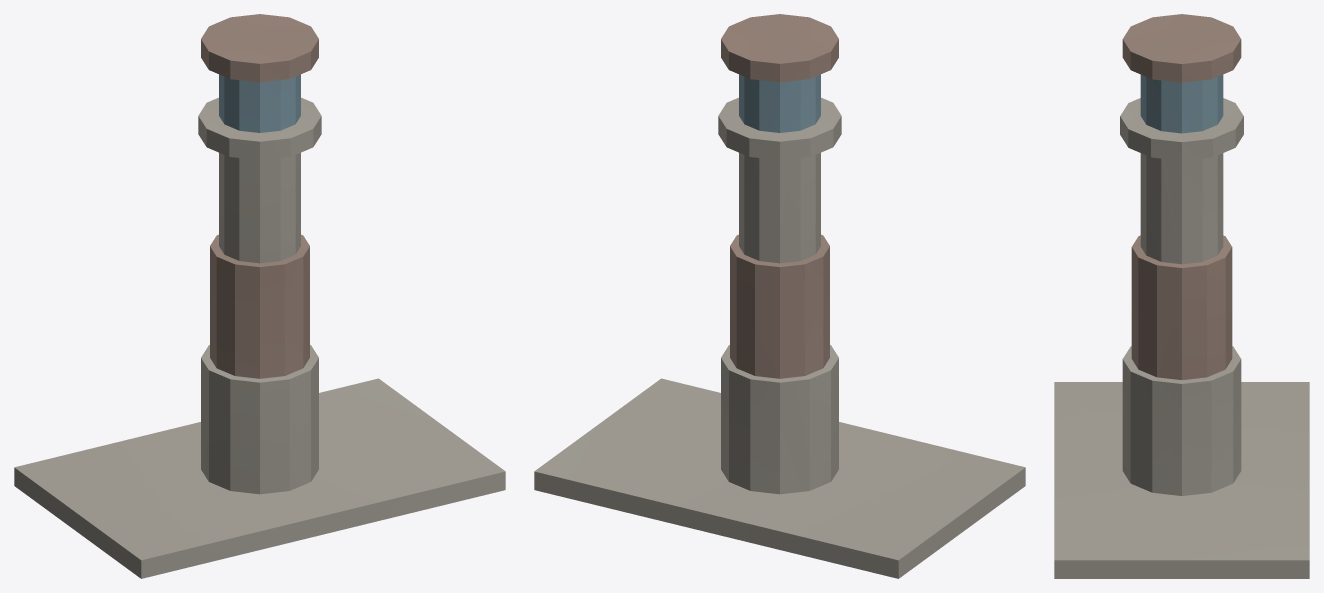
File: lighthouse-03.glb
The picture shows the model from 3 angles, left to right: view 1: azimuth 30°, elevation 25°; view 2: azimuth 150°, elevation 25°; view 3: azimuth 270°, elevation 25°; orthographic projection.
Parts seen in each view (by area): view 1: world; view 2: world; view 3: world.
Part boxes in pixels (box(x1,y1,x2,y2)): world: box(14, 14, 505, 578); world: box(534, 14, 1025, 578); world: box(1054, 14, 1309, 578).
Bounding box in the file's own units: 1.64 × 1.93 × 0.99.
